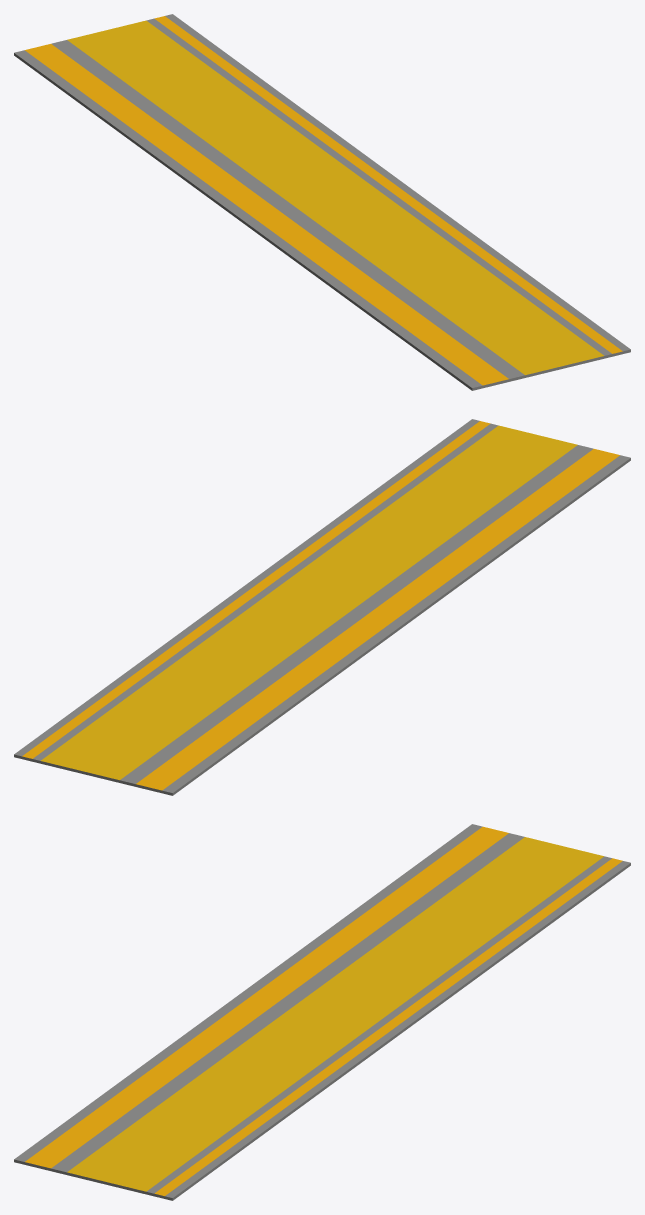
Rendered from gteki_platform_edge_l3000_innerline.glb.
The picture shows the model from 3 angles, top to bottom: view 1: azimuth 30°, elevation 25°; view 2: azimuth 150°, elevation 25°; view 3: azimuth 330°, elevation 25°; orthographic projection.
Parts seen in each view (by area): view 1: VIS_body; view 2: VIS_body; view 3: VIS_body.
Part boxes in pixels (x1,y1,x2,y2): VIS_body: (14,14,630,390); VIS_body: (14,419,630,795); VIS_body: (14,824,630,1200).
Bounding box in the file's own units: 0.6 × 0.01 × 3.
1 material, 1 textured.
